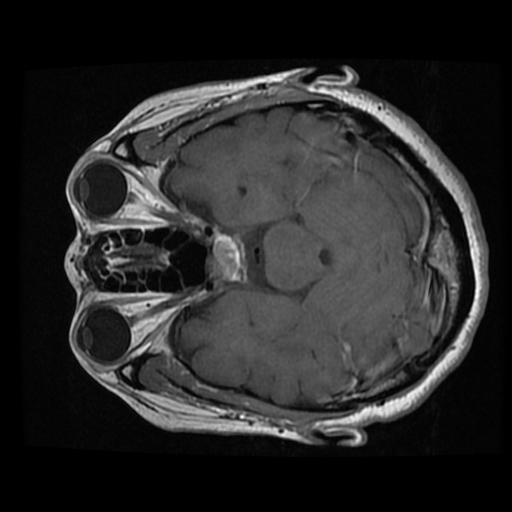pituitary tumour: (208, 230, 248, 284)
